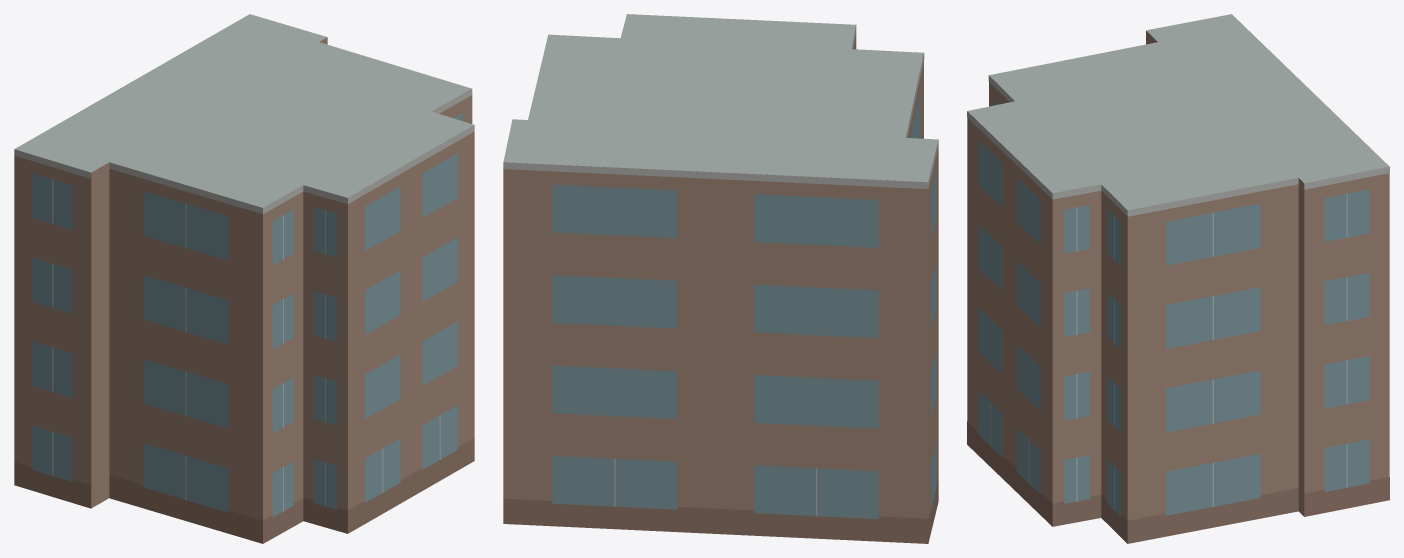
File: survey-upis-32974256.glb
3 renders of one model, left to right at view 1: azimuth 30°, elevation 25°; view 2: azimuth 150°, elevation 25°; view 3: azimuth 270°, elevation 25°, orthographic. The views are drawn at different scales.
Parts seen in each view (by area): view 1: survey-upis-32974256.tmp; view 2: survey-upis-32974256.tmp; view 3: survey-upis-32974256.tmp.
Boxes of the visible parts, box(x1,y1,x2,y2) form: survey-upis-32974256.tmp: box(14, 14, 474, 543); survey-upis-32974256.tmp: box(503, 14, 938, 543); survey-upis-32974256.tmp: box(967, 14, 1389, 543).
Size of the model in its own units: 16.3 by 12.9 by 14.83.
